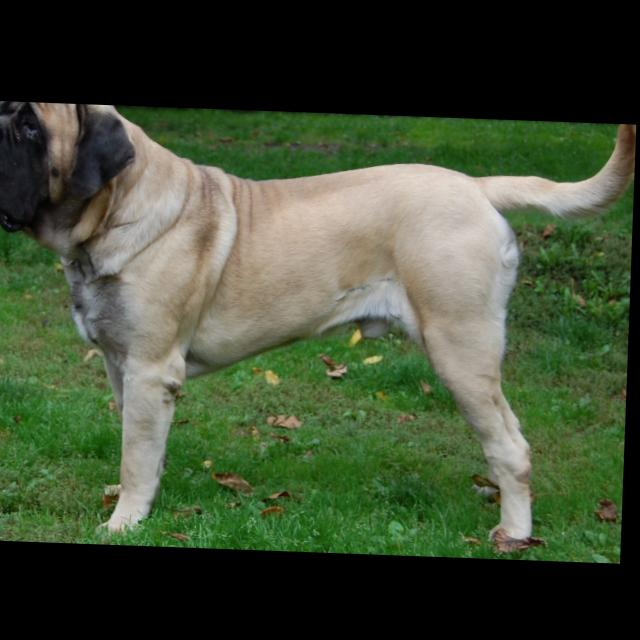mastiff: (1, 101, 638, 558)
